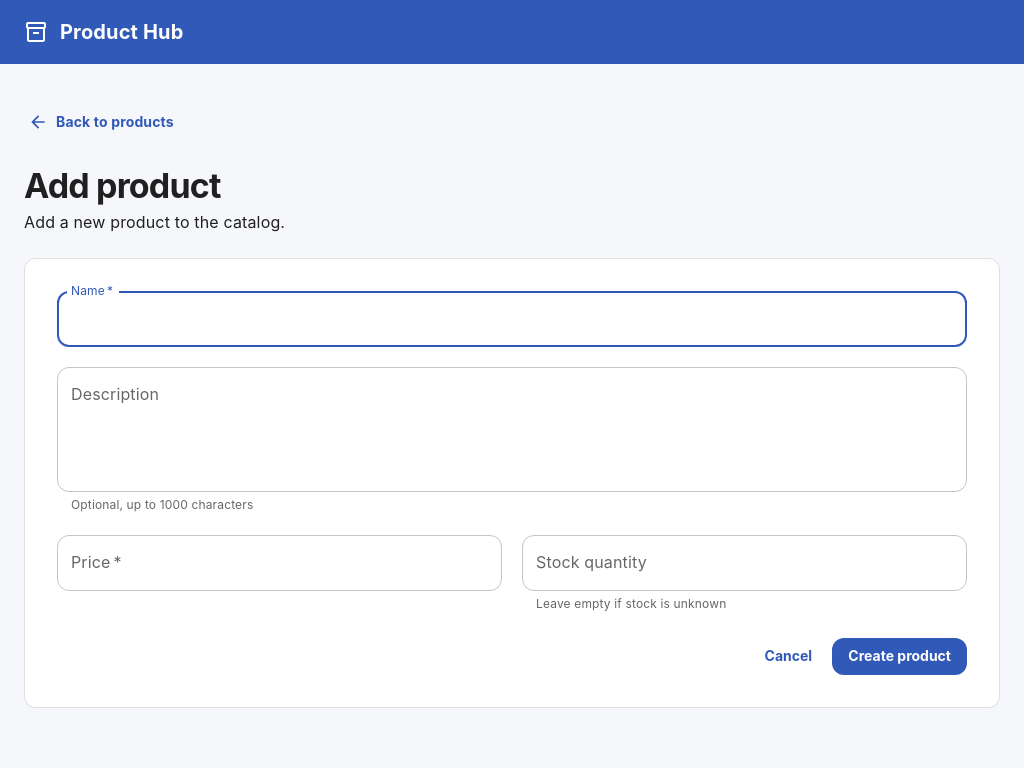
Test: product mutations › creates a product and opens its detail page
The width and height of the screenshot is (1024, 768).
Type "Coffee" into the field labelled "Name *" at (512, 320), box [57,292,967,348]
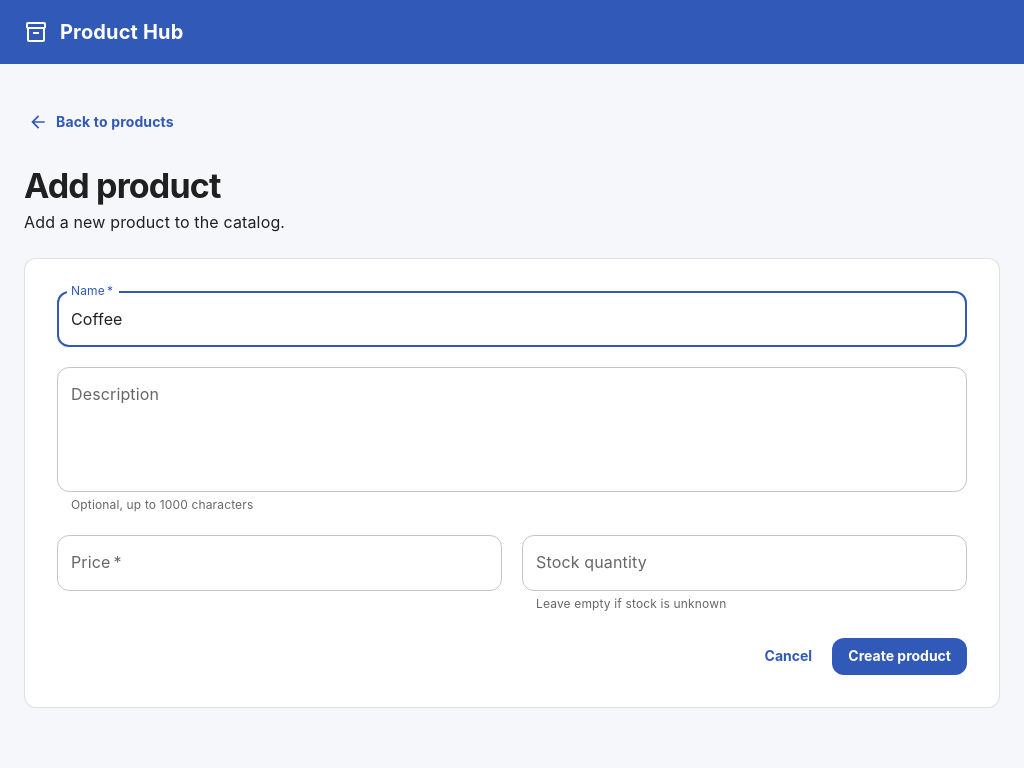
Type "Freshly roasted beans" into the text box labelled "Description" at (512, 430), box [71,384,953,476]
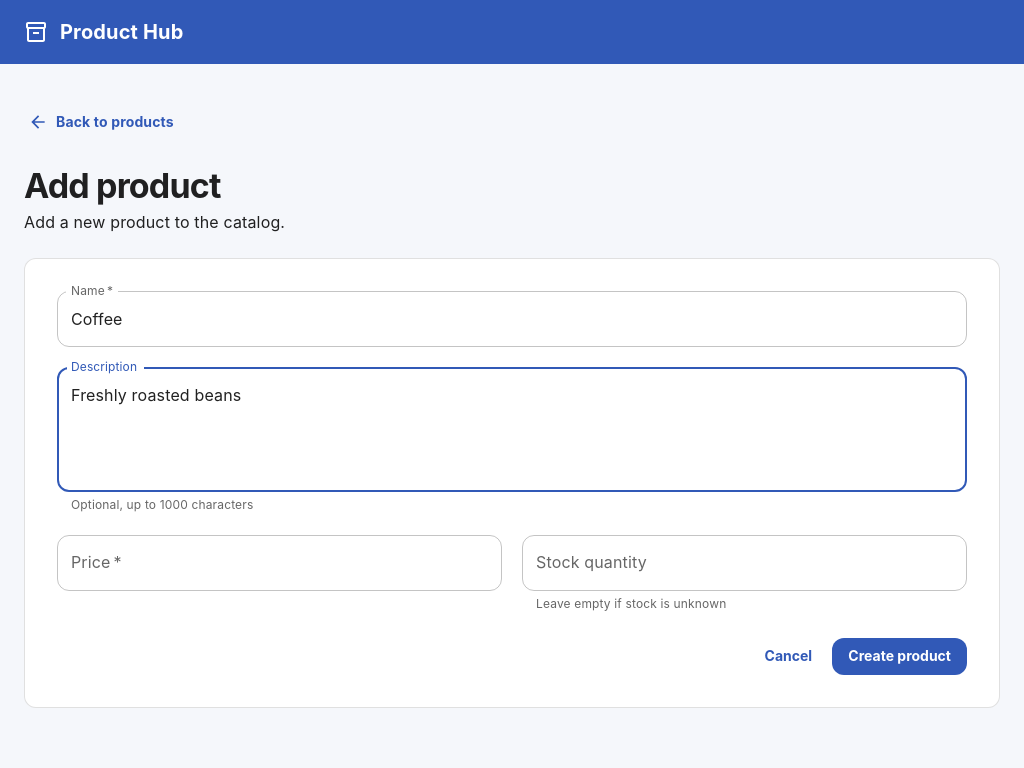
Type "12.50" into the field labelled "Price *" at (280, 563), box [57,535,502,591]
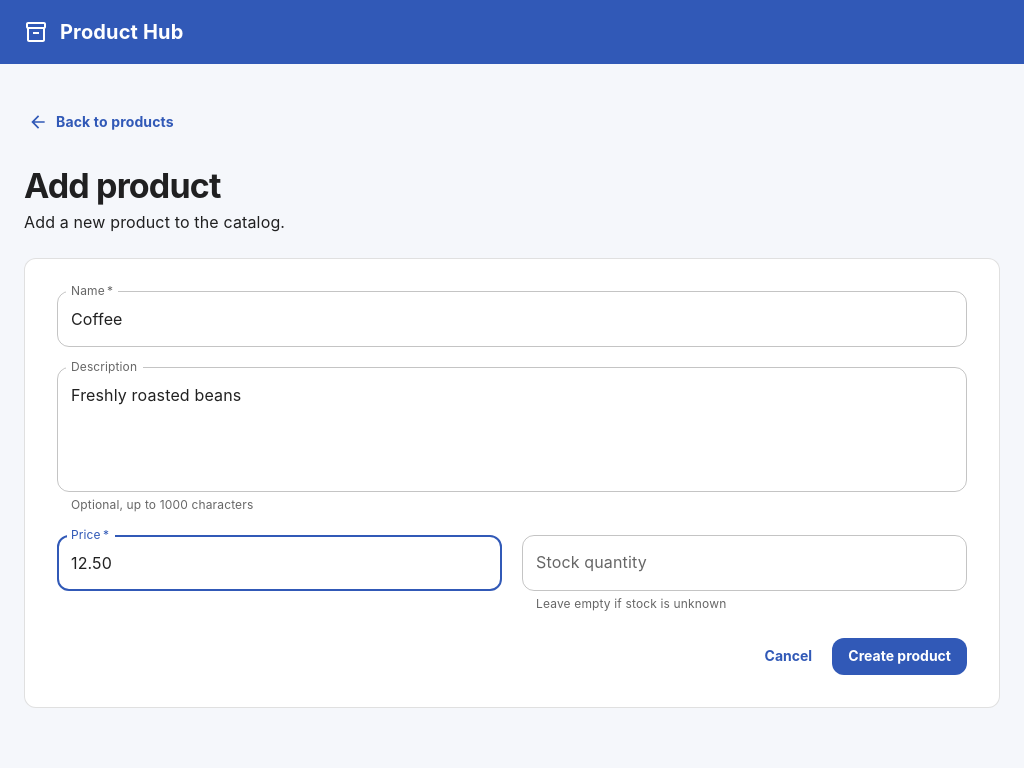
Type "8" into the number field labelled "Stock quantity" at (744, 563), box [522,535,967,591]
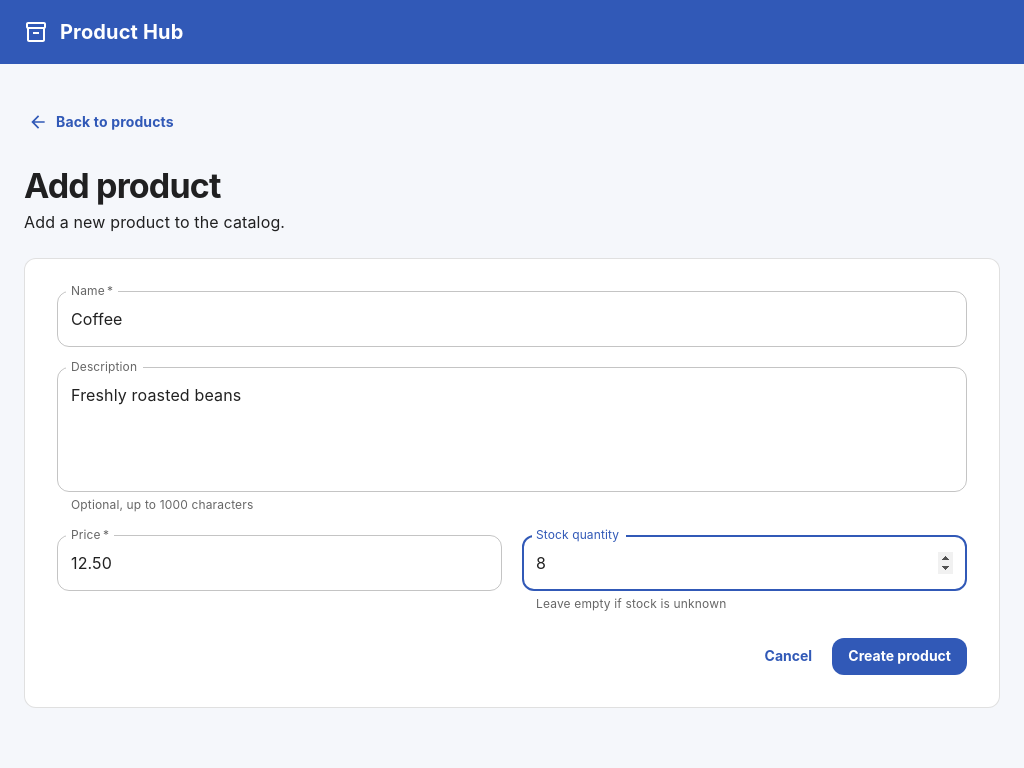
Click the button "Create product" at (900, 657), box [832,638,967,675]
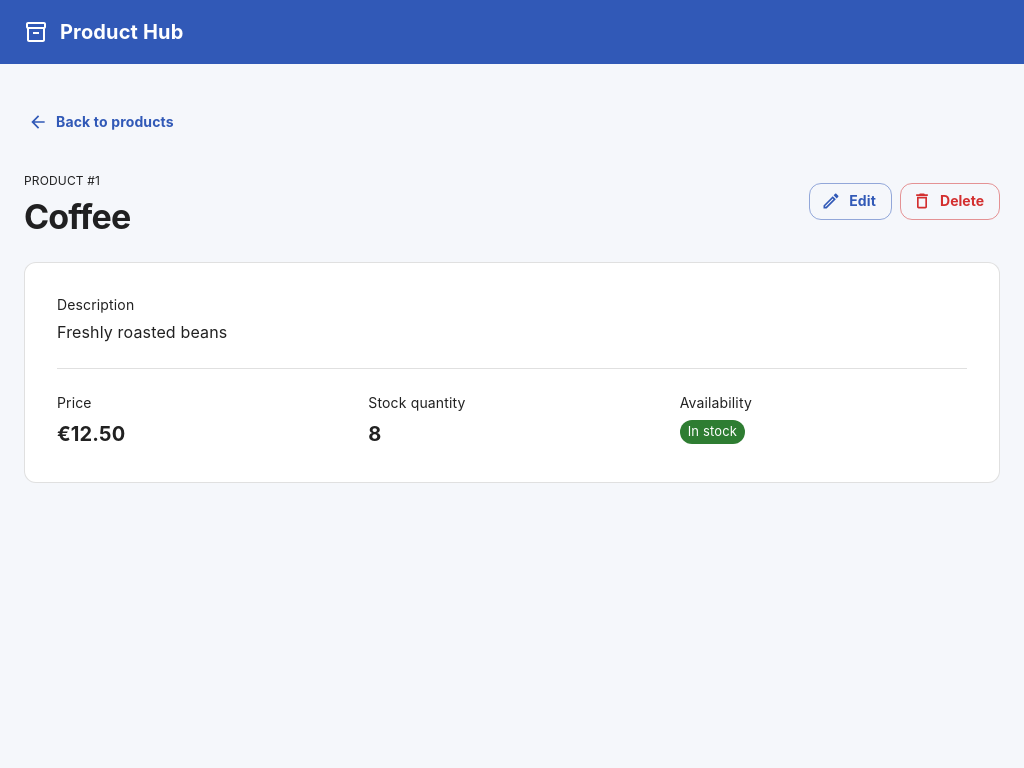
Expected: the heading "Coffee" is shown, [24,196,130,238]
